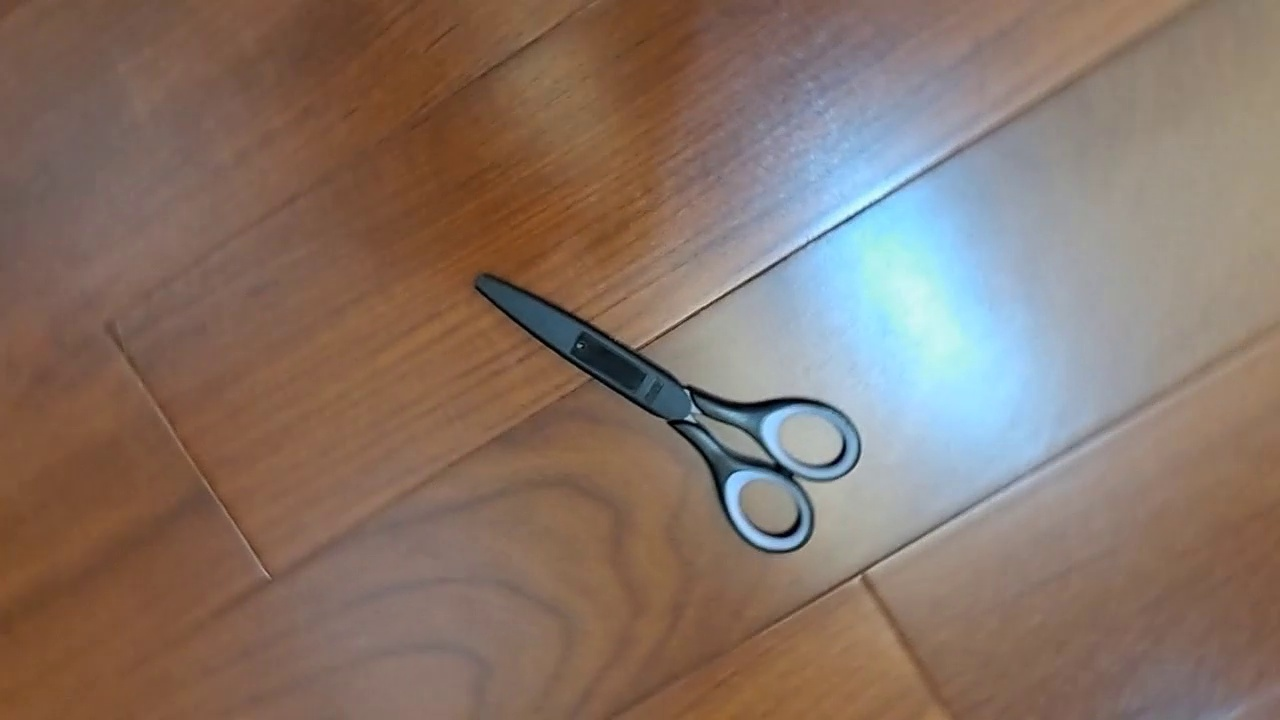scissors: (471, 271, 862, 554)
